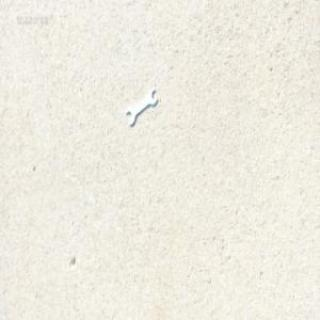Wrenchtrack_idkeyframe: (125, 86, 157, 125)
